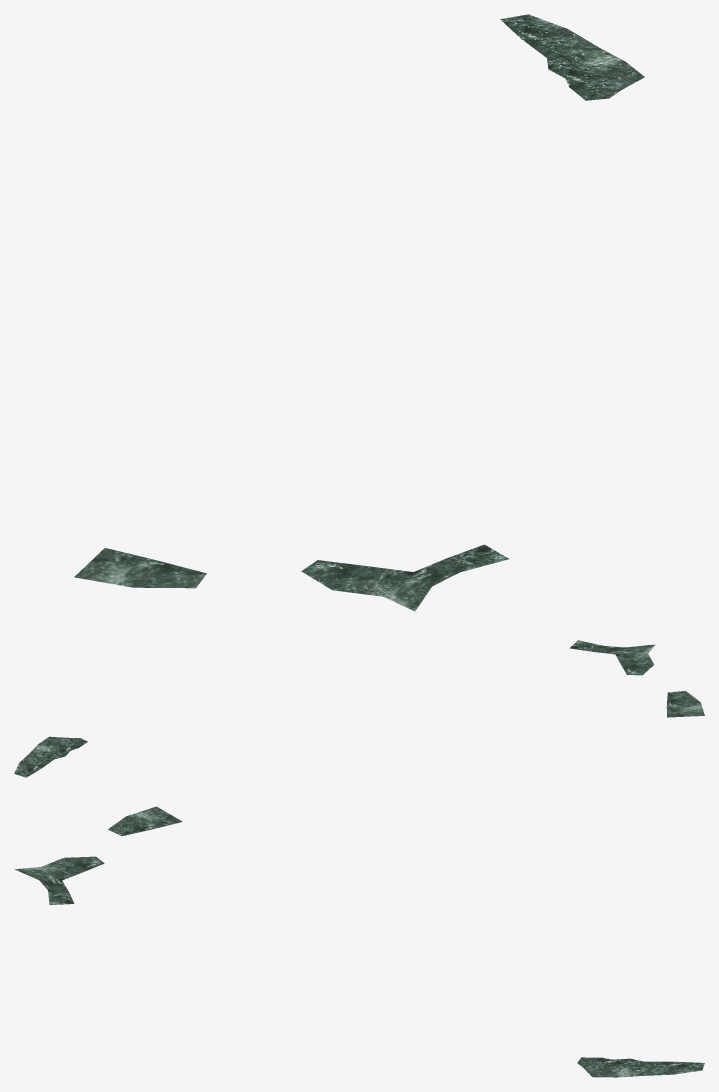
3 views of the same model, one above another, from view 1: azimuth 30°, elevation 25°; view 2: azimuth 150°, elevation 25°; view 3: azimuth 270°, elevation 25° (orthographic). The views are drawn at different scales.
Parts seen in each view (by area): view 1: w4; view 2: w4; view 3: w4.
Part boxes in pixels (x1,y1,x2,y2): w4: [74, 14, 644, 611]; w4: [14, 640, 704, 777]; w4: [15, 806, 704, 1077].
Size of the model in its own units: 16664 by 19.61 by 17971.
1 material, 1 textured.
